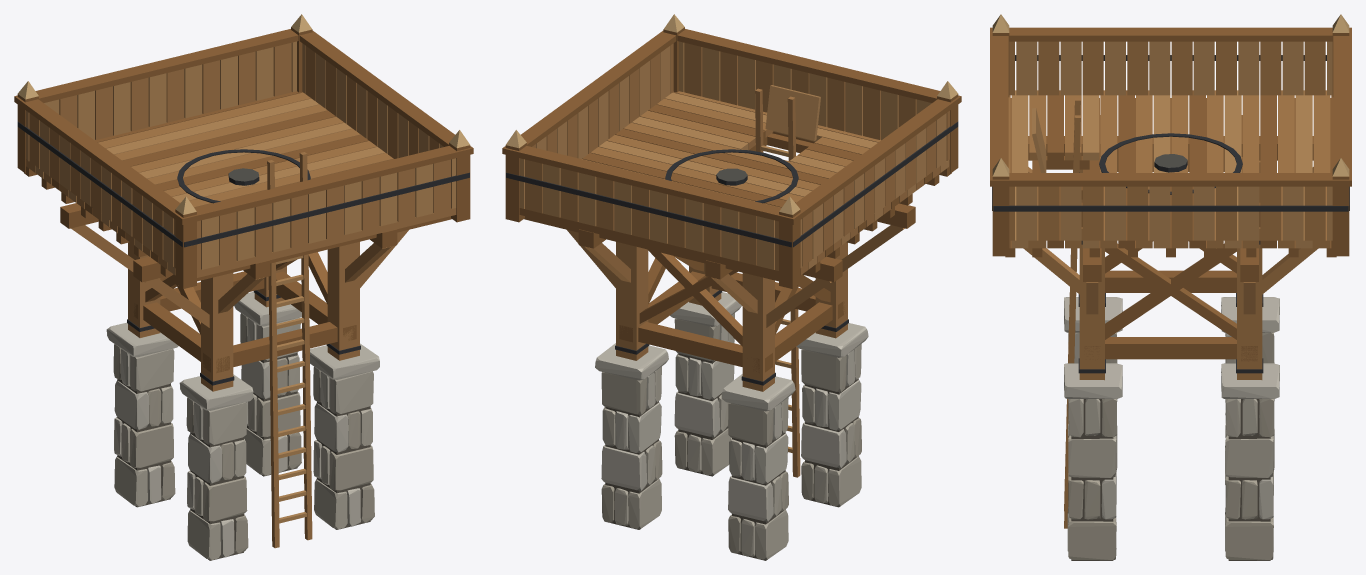
The model's file is watchtower-lvl2.fbx.
The picture shows the model from 3 angles, left to right: view 1: azimuth 30°, elevation 25°; view 2: azimuth 150°, elevation 25°; view 3: azimuth 270°, elevation 25°; orthographic projection. The views are drawn at different scales.
Visible parts, largest first — view 1: TowerL2_Parapet, TowerL2_Legs, TowerL2_Deck, TowerL2_Frame, TowerL2_Ladder; view 2: TowerL2_Parapet, TowerL2_Legs, TowerL2_Deck, TowerL2_Frame, TowerL2_Ladder; view 3: TowerL2_Parapet, TowerL2_Deck, TowerL2_Legs, TowerL2_Frame, TowerL2_Ladder.
Boxes of the visible parts, left/top/right/bottom form: TowerL2_Parapet: left=14, top=14, right=473, bottom=288; TowerL2_Legs: left=106, top=292, right=379, bottom=560; TowerL2_Deck: left=24, top=91, right=456, bottom=285; TowerL2_Frame: left=60, top=203, right=408, bottom=391; TowerL2_Ladder: left=267, top=152, right=312, bottom=548; TowerL2_Parapet: left=502, top=14, right=961, bottom=288; TowerL2_Legs: left=595, top=292, right=868, bottom=560; TowerL2_Deck: left=519, top=85, right=951, bottom=285; TowerL2_Frame: left=567, top=203, right=915, bottom=391; TowerL2_Ladder: left=755, top=88, right=800, bottom=477; TowerL2_Parapet: left=990, top=14, right=1351, bottom=256; TowerL2_Deck: left=1005, top=90, right=1336, bottom=257; TowerL2_Legs: left=1064, top=297, right=1279, bottom=560; TowerL2_Frame: left=1010, top=115, right=1331, bottom=380; TowerL2_Ladder: left=1064, top=98, right=1080, bottom=528.
Bounding box in the file's own units: 428 × 565 × 428.
